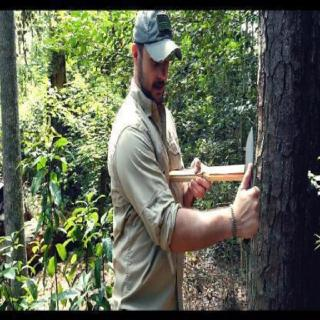knife: (238, 123, 264, 233)
